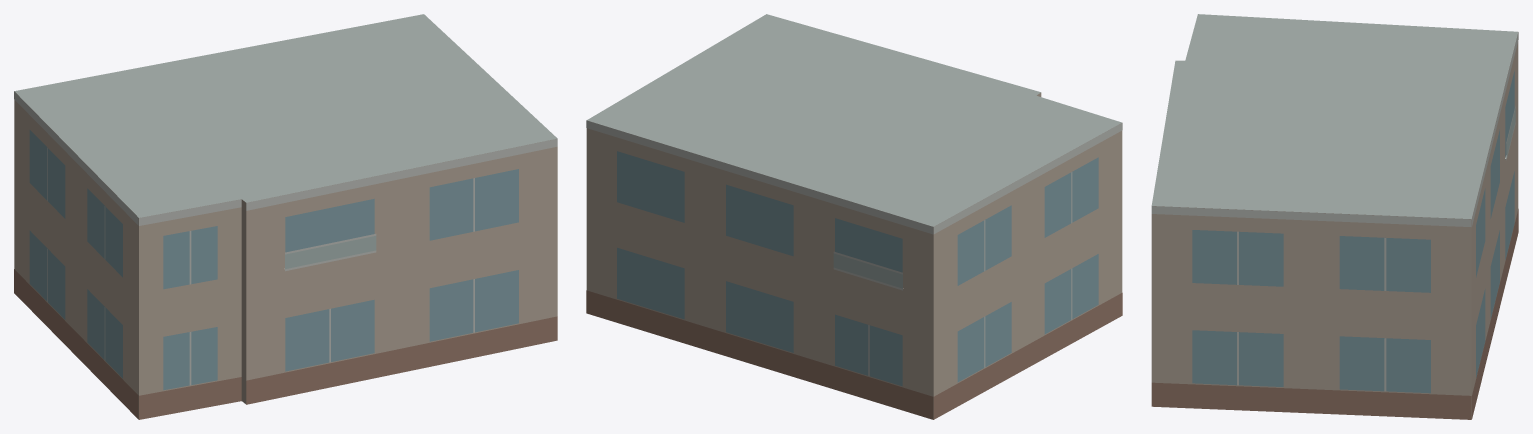
File: survey-upis-32923652.glb
The picture shows the model from 3 angles, left to right: view 1: azimuth 30°, elevation 25°; view 2: azimuth 150°, elevation 25°; view 3: azimuth 270°, elevation 25°; orthographic projection. The views are drawn at different scales.
Visible parts, largest first — view 1: survey-upis-32923652.tmp; view 2: survey-upis-32923652.tmp; view 3: survey-upis-32923652.tmp.
Boxes of the visible parts, x1=… form: survey-upis-32923652.tmp: x1=14, y1=14, x2=557, y2=419; survey-upis-32923652.tmp: x1=586, y1=14, x2=1122, y2=419; survey-upis-32923652.tmp: x1=1151, y1=14, x2=1518, y2=419.
Size of the model in its own units: 13.38 by 6.1 by 10.11.
